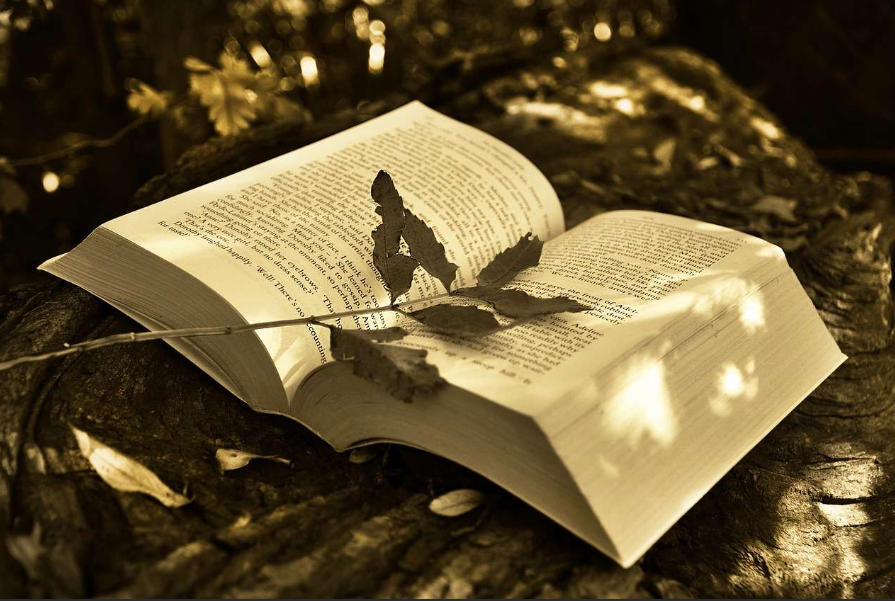book: (38, 101, 851, 568)
